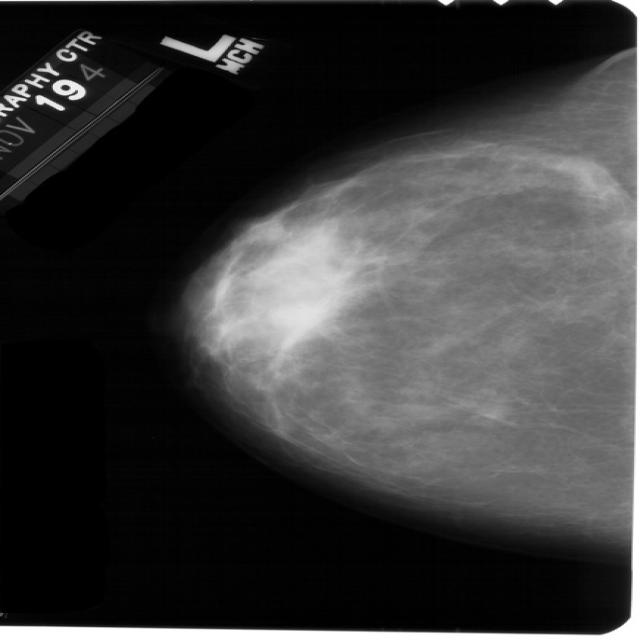tumour: (244, 218, 283, 242)
